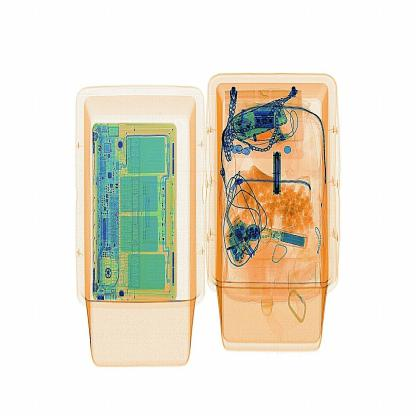scissors: (272, 148, 284, 197)
